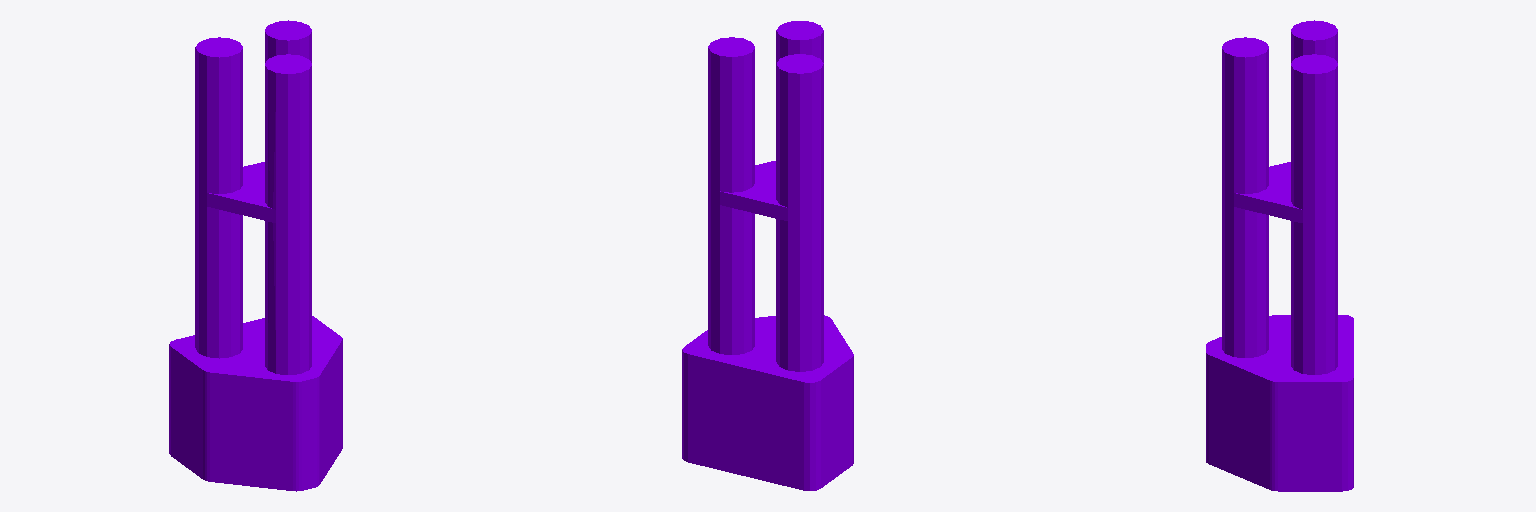
robot.urdf — Medium_Long_3Prong_Purple:
<?xml version="1.0"?>
<robot name="Medium_Long_3Prong_Purple">
    <link name="Medium_Long_3Prong_Purple">
        <visual>
            <geometry>
                <mesh filename="../mesh/factory_insertion/Medium_Long_3Prong_Purple.obj" scale="0.001 0.001 0.001"/>
            </geometry>
            <material name="Purple">
              <color rgba="0.6 0.0 1.0 0.0"/>
            </material>
        </visual>
        <collision>
            <geometry>
                <mesh filename="../mesh/factory_insertion/Medium_Long_3Prong_Purple.obj" scale="0.001 0.001 0.001"/>
            </geometry>
            <sdf resolution="512"/>
        </collision>
    </link>
</robot>

--- Facts derived from the render (not from the file) ---
3 views of the same robot in one strip: view 1: azimuth 30°, elevation 25°; view 2: azimuth 150°, elevation 25°; view 3: azimuth 270°, elevation 25° (orthographic).
Robot: Medium_Long_3Prong_Purple — 1 links, 0 joints (none); root link Medium_Long_3Prong_Purple; default pose: all joints at 0.
Links seen in each view (by area): view 1: Medium_Long_3Prong_Purple; view 2: Medium_Long_3Prong_Purple; view 3: Medium_Long_3Prong_Purple.
Boxes of the visible links, x1,y1,x2,y2 form: Medium_Long_3Prong_Purple: (169, 20, 342, 491); Medium_Long_3Prong_Purple: (682, 21, 853, 490); Medium_Long_3Prong_Purple: (1206, 20, 1353, 491).
Bounding box of the posed robot: 0.0528 × 0.0493 × 0.15 m (x, y, z).
1 mesh visuals loaded from 1 distinct referenced files (1 OBJ).
